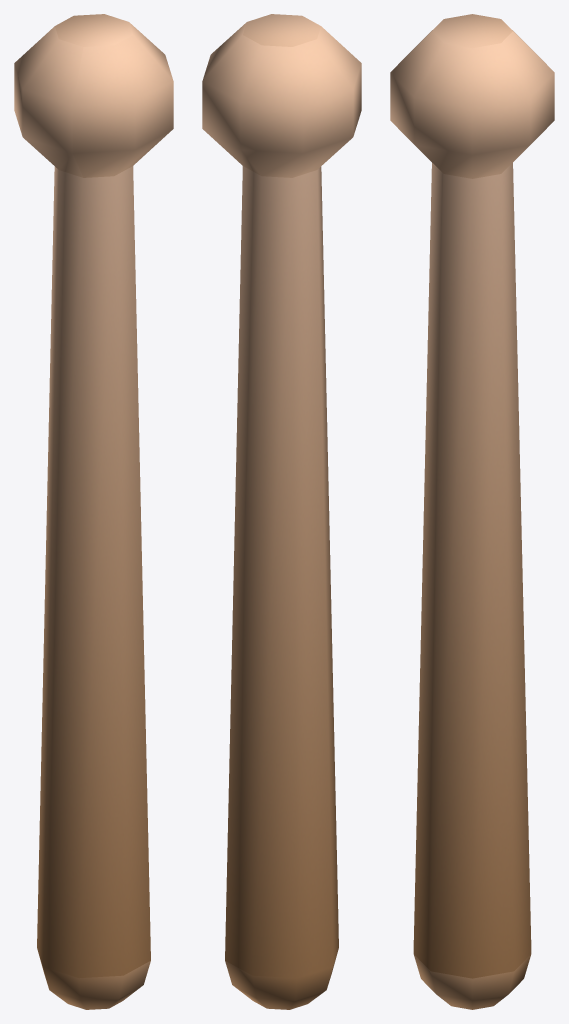
The model's file is Drum_stick.fbx.
3 views of the same model, side by side, from view 1: azimuth 30°, elevation 25°; view 2: azimuth 150°, elevation 25°; view 3: azimuth 270°, elevation 25° (orthographic).
Visible parts, largest first — view 1: DrumStick; view 2: DrumStick; view 3: DrumStick.
Part boxes in pixels (x1,y1,x2,y2): DrumStick: (14, 14, 173, 1009); DrumStick: (202, 14, 361, 1009); DrumStick: (390, 14, 554, 1009).
Bounding box in the file's own units: 15.71 × 103 × 15.71.
